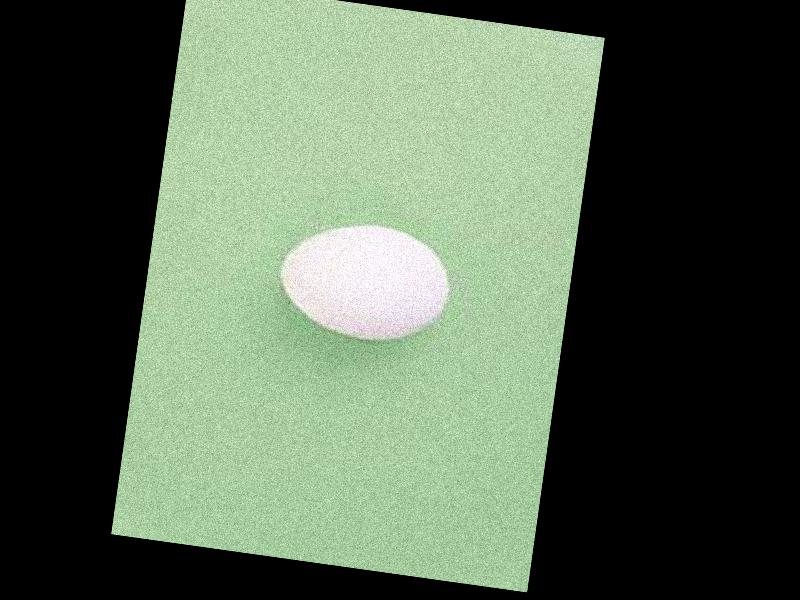Eggs: (273, 213, 458, 351)
